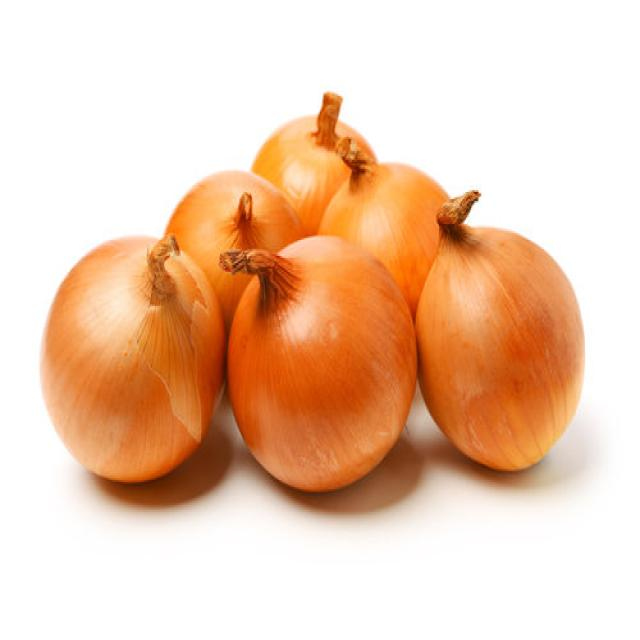Onion: (219, 233, 417, 492), (413, 189, 585, 471), (38, 233, 226, 483), (316, 134, 452, 318), (162, 167, 304, 333), (250, 89, 376, 235)
